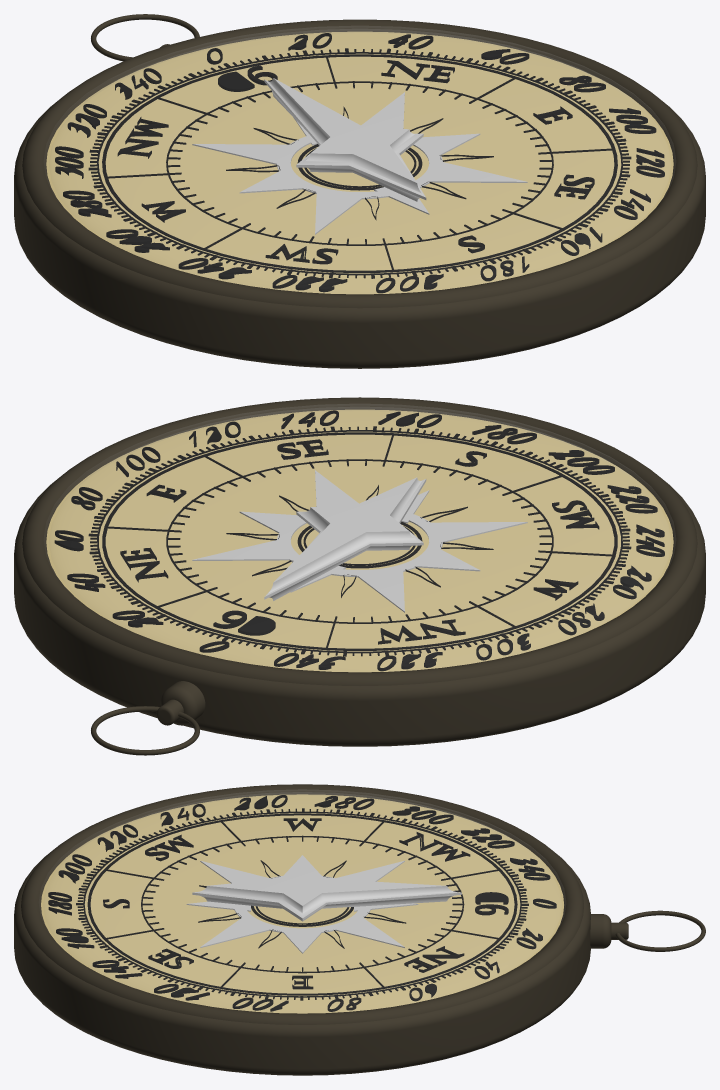
Rendered from Vintage_Compass_fbx.fbx.
3 views of the same model, one above another, from view 1: azimuth 30°, elevation 25°; view 2: azimuth 150°, elevation 25°; view 3: azimuth 270°, elevation 25° (orthographic). The views are drawn at different scales.
Visible parts, largest first — view 1: Compass_glass, Face, Jacket, Ring_2, Deckfläche_2_5, Deckfläche_2_3, Degreeunits__Extrude_, Deckfläche_2, Rings__Extrude_, Deckfläche_2_4, Directions__Extrude_, Rundung_2 (+6 smaller); view 2: Compass_glass, Face, Jacket, Ring_2, Deckfläche_2_5, Deckfläche_2_3, Degreeunits__Extrude_, Deckfläche_2, Rings__Extrude_, Deckfläche_2_4, Directions__Extrude_, Rundung_2 (+7 smaller); view 3: Compass_glass, Face, Jacket, Ring_2, Deckfläche_2_3, Degreeunits__Extrude_, Deckfläche_2_5, Deckfläche_2, Rings__Extrude_, Deckfläche_2_4, Rundung_2, Directions__Extrude_ (+7 smaller).
Part boxes in pixels (box(x1,y1,x2,y2)): Compass_glass: box(49, 26, 670, 293); Face: box(46, 31, 673, 294); Jacket: box(14, 99, 705, 368); Ring_2: box(22, 19, 697, 308); Deckfläche_2_5: box(193, 92, 526, 233); Deckfläche_2_3: box(97, 52, 622, 274); Degreeunits__Extrude_: box(55, 33, 664, 293); Deckfläche_2: box(55, 33, 664, 290); Rings__Extrude_: box(97, 52, 622, 275); Deckfläche_2_4: box(274, 78, 416, 182); Directions__Extrude_: box(117, 60, 594, 264); Rundung_2: box(265, 78, 425, 197); Compass_glass: box(49, 404, 670, 671); Face: box(46, 409, 673, 672); Jacket: box(14, 474, 705, 746); Ring_2: box(22, 397, 697, 685); Deckfläche_2_5: box(192, 470, 526, 611); Deckfläche_2_3: box(97, 430, 622, 652); Degreeunits__Extrude_: box(54, 411, 664, 671); Deckfläche_2: box(55, 410, 664, 668); Rings__Extrude_: box(97, 431, 622, 653); Deckfläche_2_4: box(273, 477, 416, 582); Directions__Extrude_: box(120, 440, 599, 644); Rundung_2: box(265, 478, 425, 596); Compass_glass: box(43, 790, 561, 1012); Face: box(41, 794, 563, 1013); Jacket: box(14, 850, 590, 1075); Ring_2: box(21, 784, 583, 1024); Deckfläche_2_3: box(83, 811, 521, 996); Degreeunits__Extrude_: box(48, 795, 556, 1011); Deckfläche_2_5: box(188, 855, 417, 952); Deckfläche_2: box(48, 795, 556, 1009); Rings__Extrude_: box(83, 812, 520, 997); Deckfläche_2_4: box(207, 866, 446, 905); Rundung_2: box(193, 886, 460, 918); Directions__Extrude_: box(103, 818, 508, 989).
Size of the model in its own units: 100 by 15.52 by 120.
